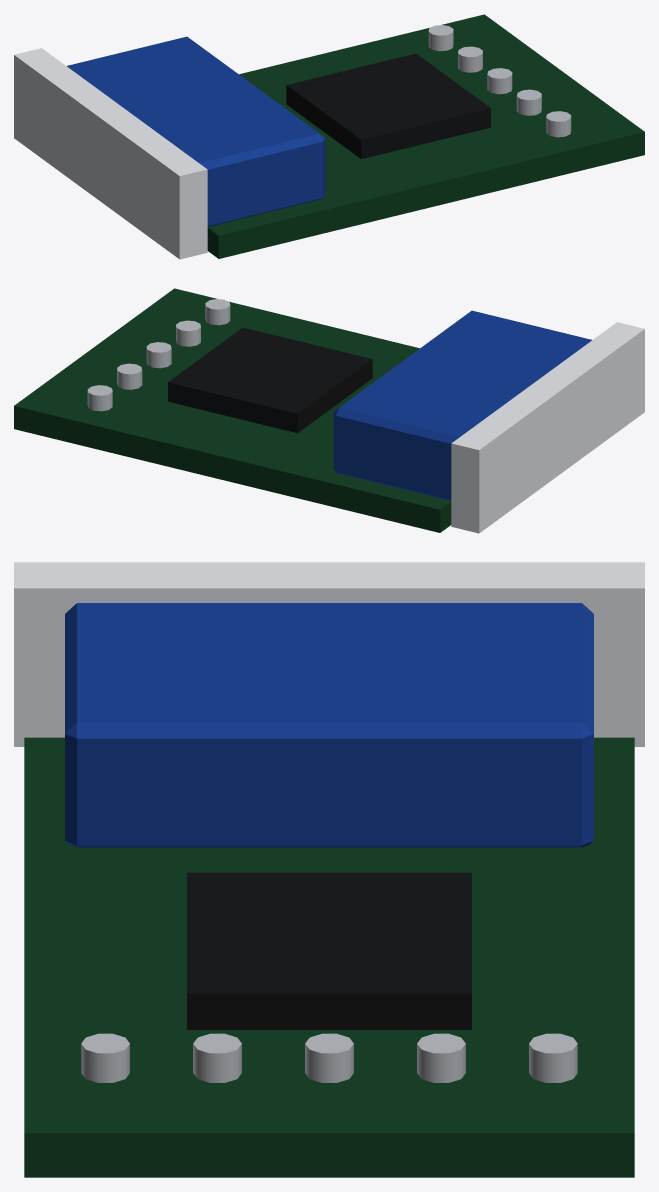
The model's file is hw_gpu_onboard.glb.
The picture shows the model from 3 angles, top to bottom: view 1: azimuth 30°, elevation 25°; view 2: azimuth 150°, elevation 25°; view 3: azimuth 270°, elevation 25°; orthographic projection. The views are drawn at different scales.
Visible parts, largest first — view 1: Body; view 2: Body; view 3: Body.
Part boxes in pixels (x1,y1,x2,y2): Body: [14, 14, 644, 259]; Body: [14, 288, 644, 533]; Body: [14, 562, 644, 1177].
Bounding box in the file's own units: 0.0505 × 0.0098 × 0.031.
